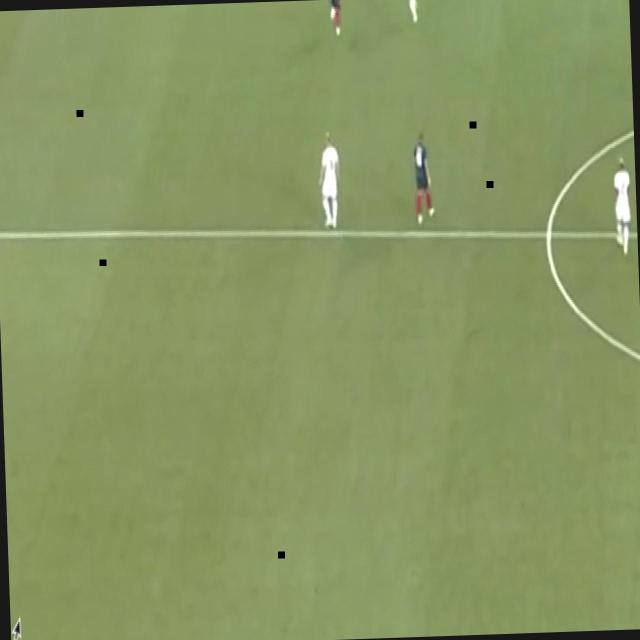player-white: (314, 128, 344, 238), (409, 127, 438, 232), (608, 152, 636, 260), (323, 0, 348, 42), (400, 0, 426, 30)
